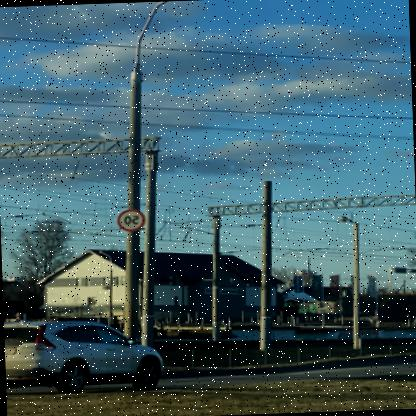speedlimit: (118, 206, 148, 230)
